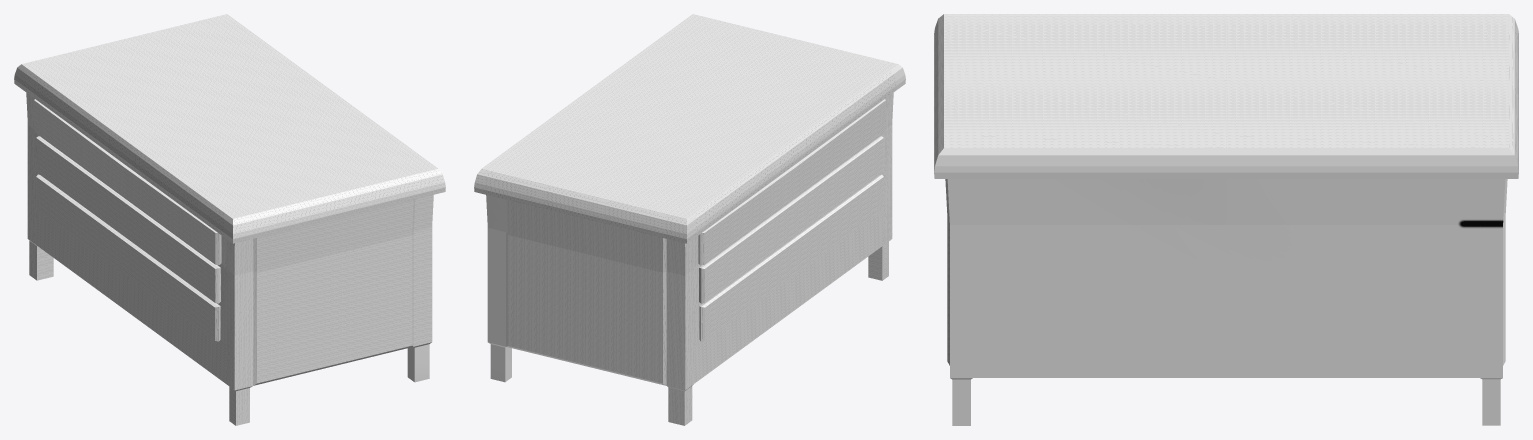
The model's file is Armarinho.fbx.
3 views of the same model, side by side, from view 1: azimuth 30°, elevation 25°; view 2: azimuth 150°, elevation 25°; view 3: azimuth 270°, elevation 25° (orthographic). The views are drawn at different scales.
Visible parts, largest first — view 1: Cube.026; view 2: Cube.026; view 3: Cube.026.
Part boxes in pixels (x1,y1,x2,y2): Cube.026: [14, 14, 445, 425]; Cube.026: [474, 14, 905, 425]; Cube.026: [934, 14, 1518, 425].
Bounding box in the file's own units: 104 × 98.43 × 185.
